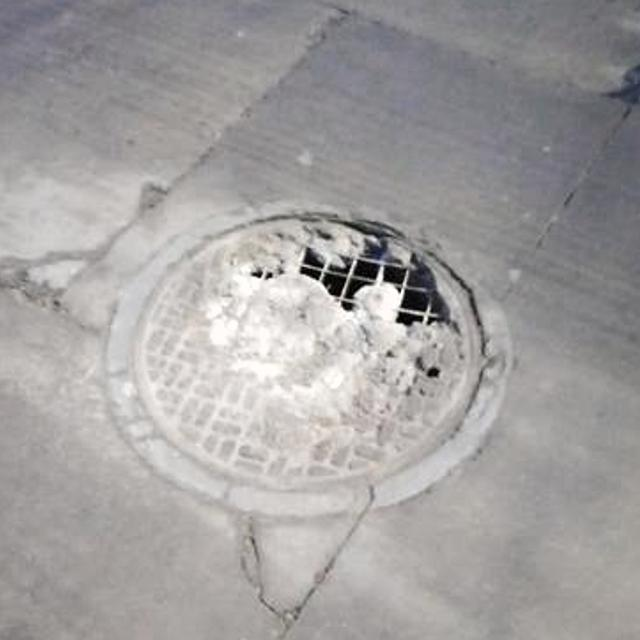broke: (92, 185, 518, 511)
